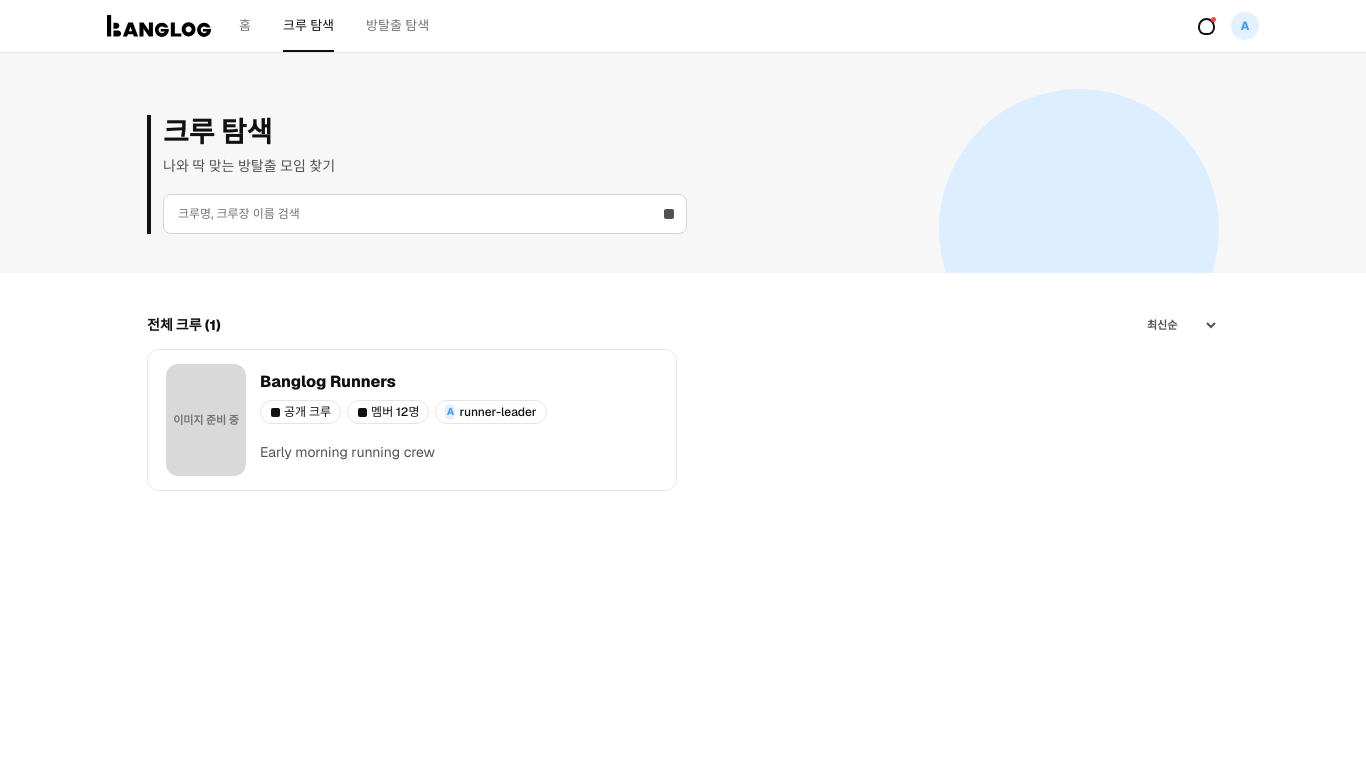
Test: PublicCrewsPage › opens the join greeting modal from the crew detail modal
What coordinates should you click on to do the following:
click the link "Banglog Runners"
I would click on:
 (328, 382)
Its box is 260,371 -> 396,392.
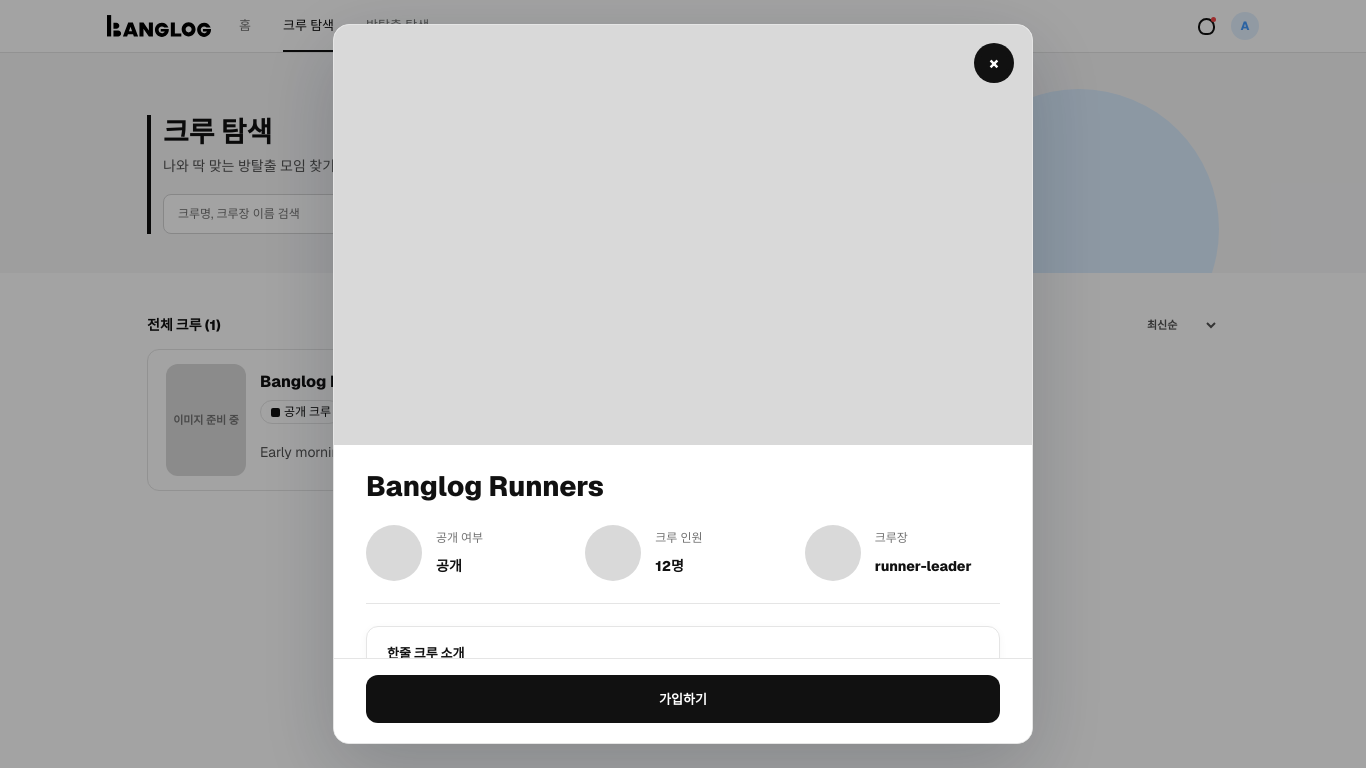
What coordinates should you click on to do the following:
click the button "가입하기"
I would click on:
 (683, 699)
Its box is 366,675 -> 1000,723.
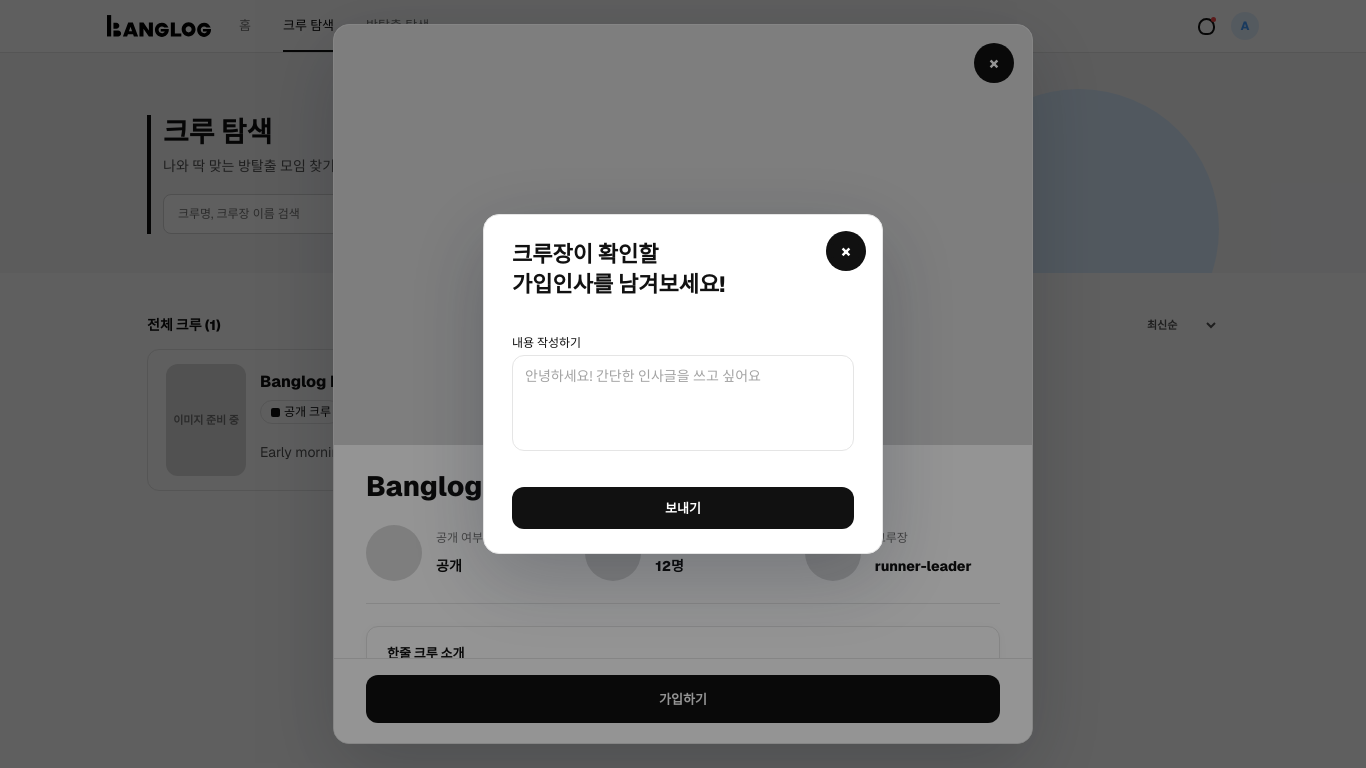
Expected: the dialog "가입인사를 남겨보세요" is shown, 483,214 -> 883,554
Expected: the text box labelled "내용 작성하기" is shown, 525,366 -> 841,440
What coordinates should you click on to do the following:
click the element that starts with "크루장이 확인할"
I would click on:
 (82, 384)
Its box is 0,0 -> 1365,767.
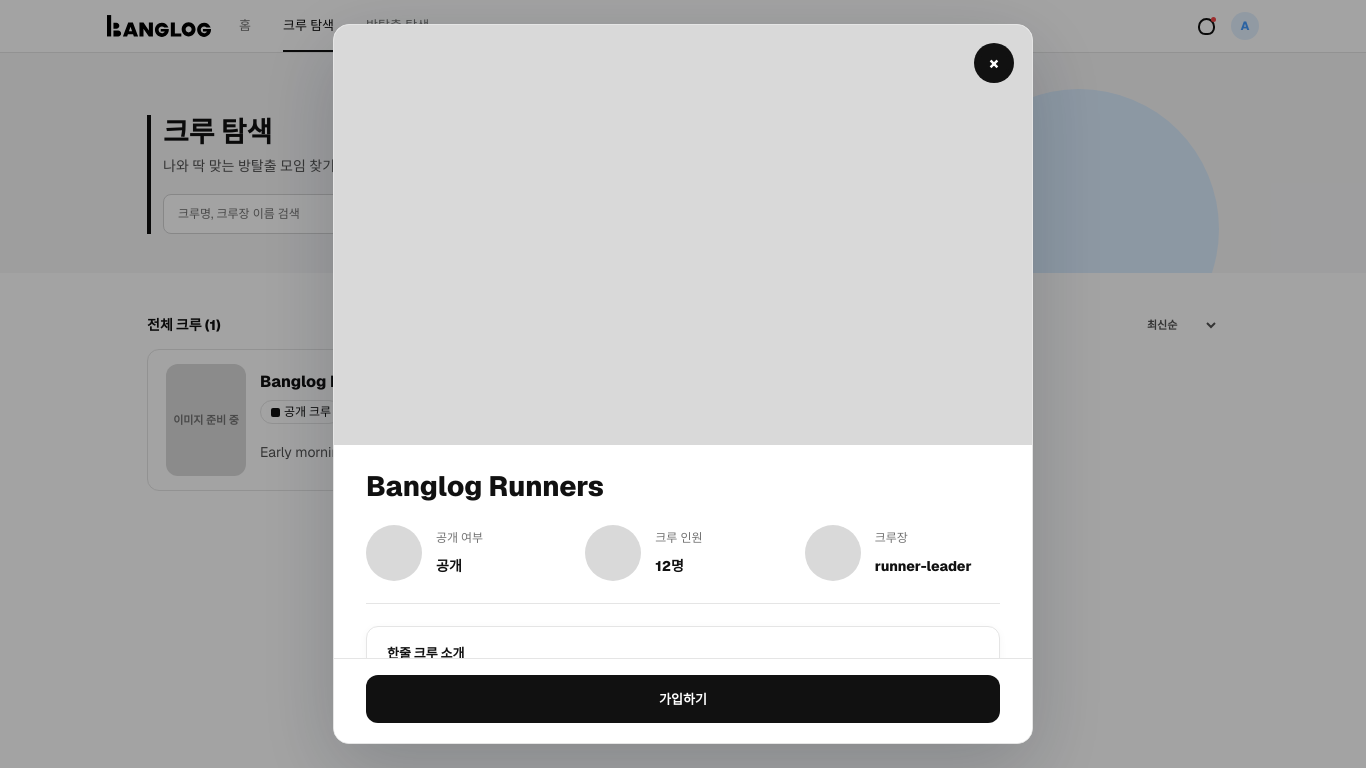
Expected: the dialog "Banglog Runners" is shown, 333,24 -> 1033,744
Expected: the heading "가입인사를 남겨보세요" is gone
What coordinates should you click on to do the following:
click the button "가입하기"
I would click on:
 (683, 699)
Its box is 366,675 -> 1000,723.
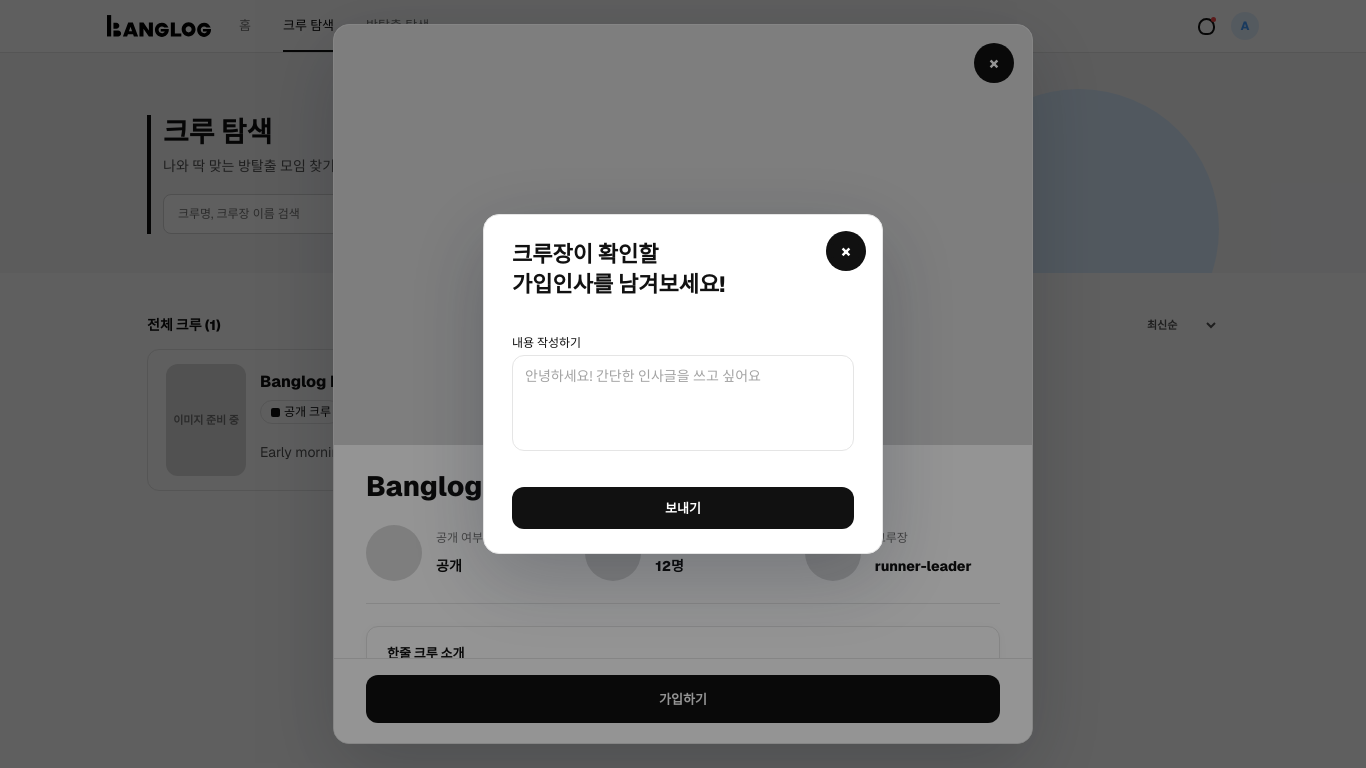
What coordinates should you click on to do the following:
click the button "보내기"
I would click on:
 (683, 508)
Its box is 512,487 -> 854,529.
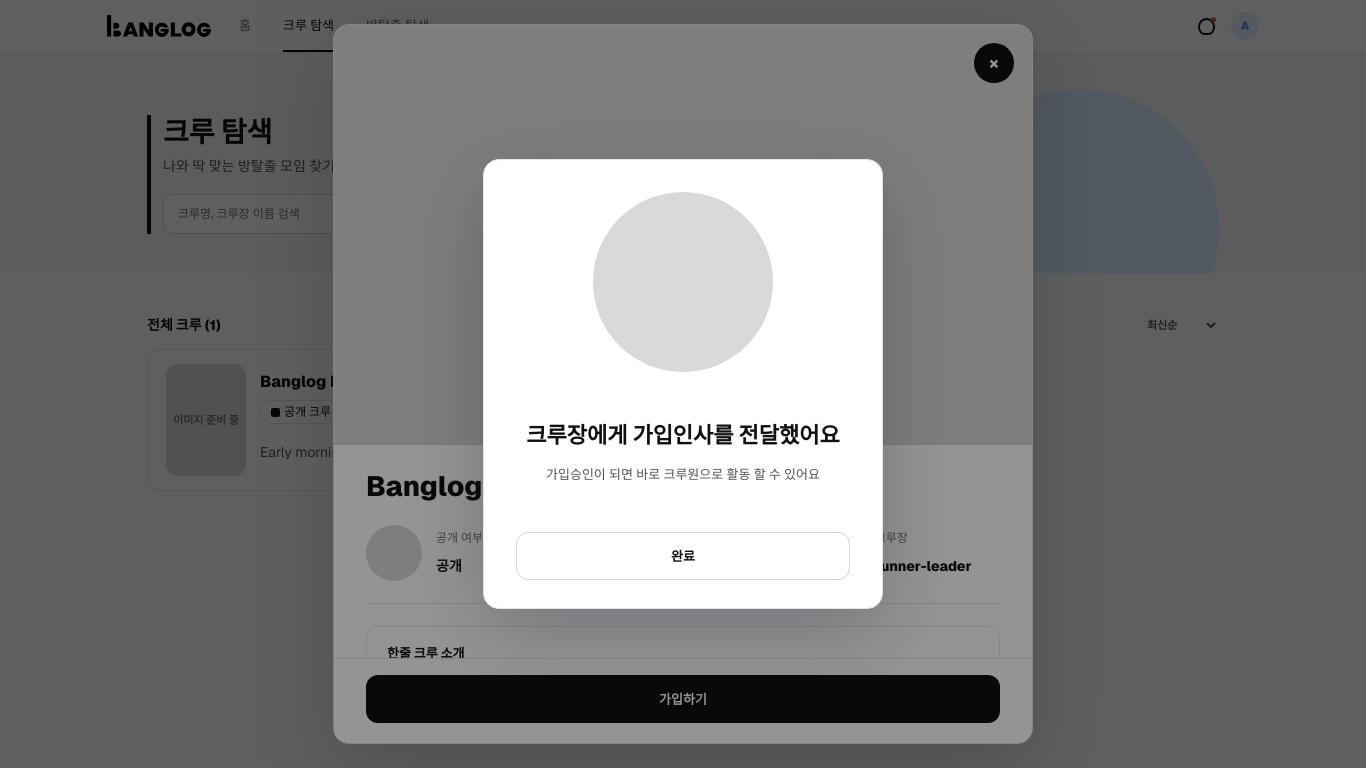
Expected: the dialog "크루장에게 가입인사를 전달했어요" is shown, 483,159 -> 883,609
What coordinates should you click on to do the following:
click the button "완료"
I would click on:
 (683, 556)
Its box is 516,532 -> 850,580.
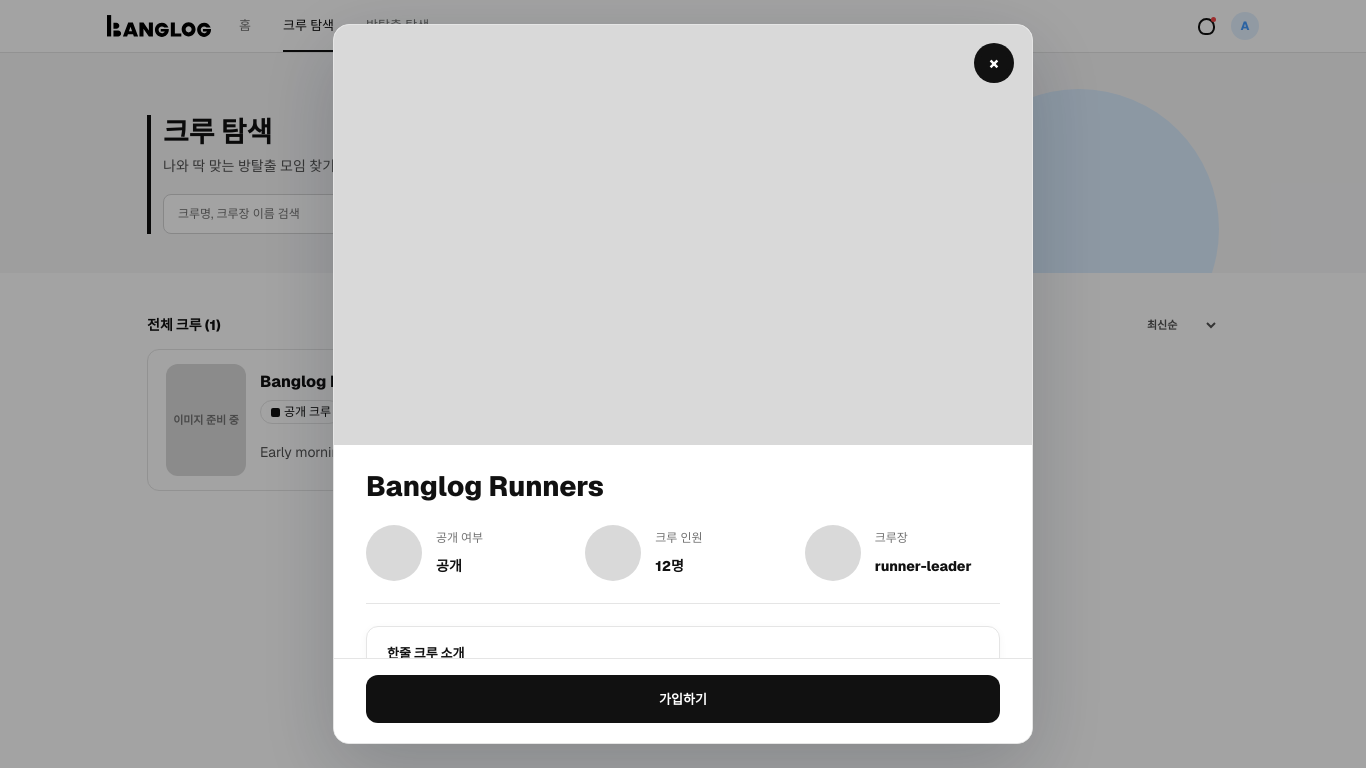
Expected: the dialog "Banglog Runners" is shown, 333,24 -> 1033,744
Expected: the heading "크루장에게 가입인사를 전달했어요" is gone
